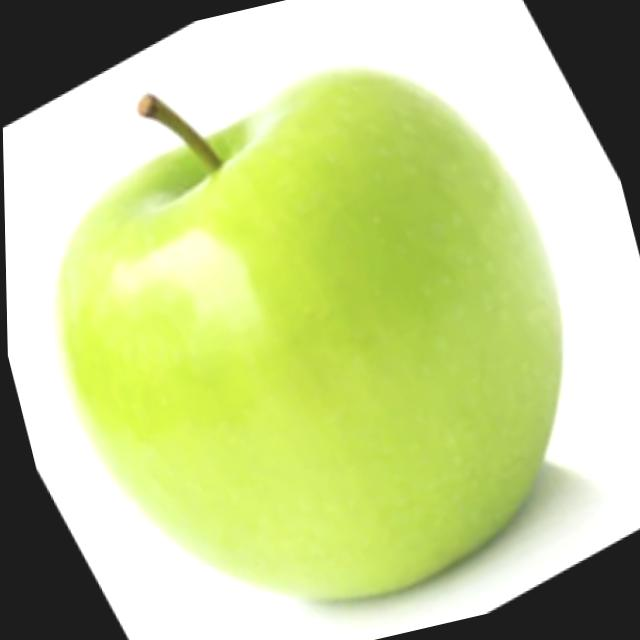organik: (13, 18, 637, 640)
